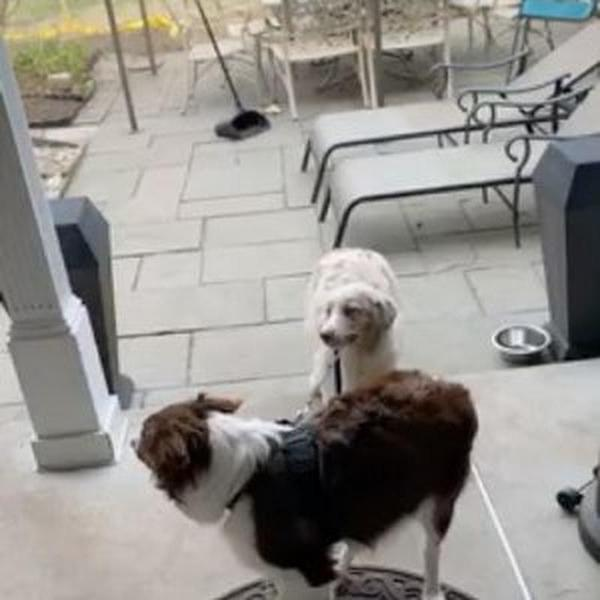allqu: (125, 381, 487, 599), (292, 239, 422, 377)
